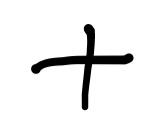plus: (32, 24, 132, 111)
